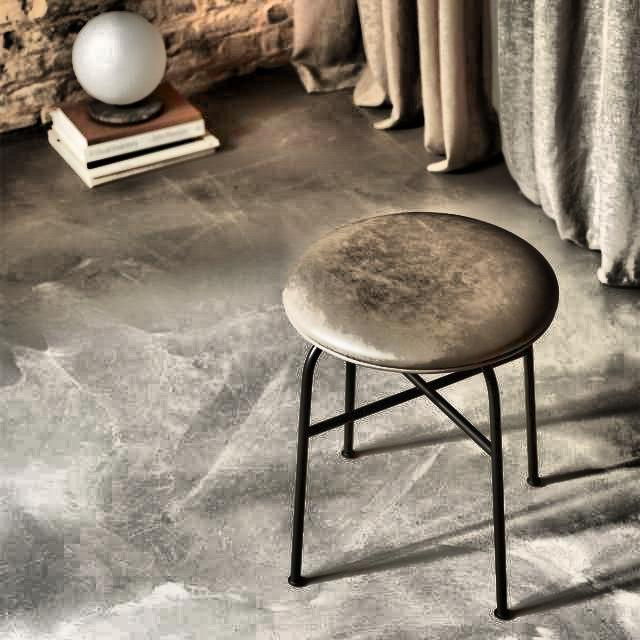cadeira: (280, 206, 564, 624)
